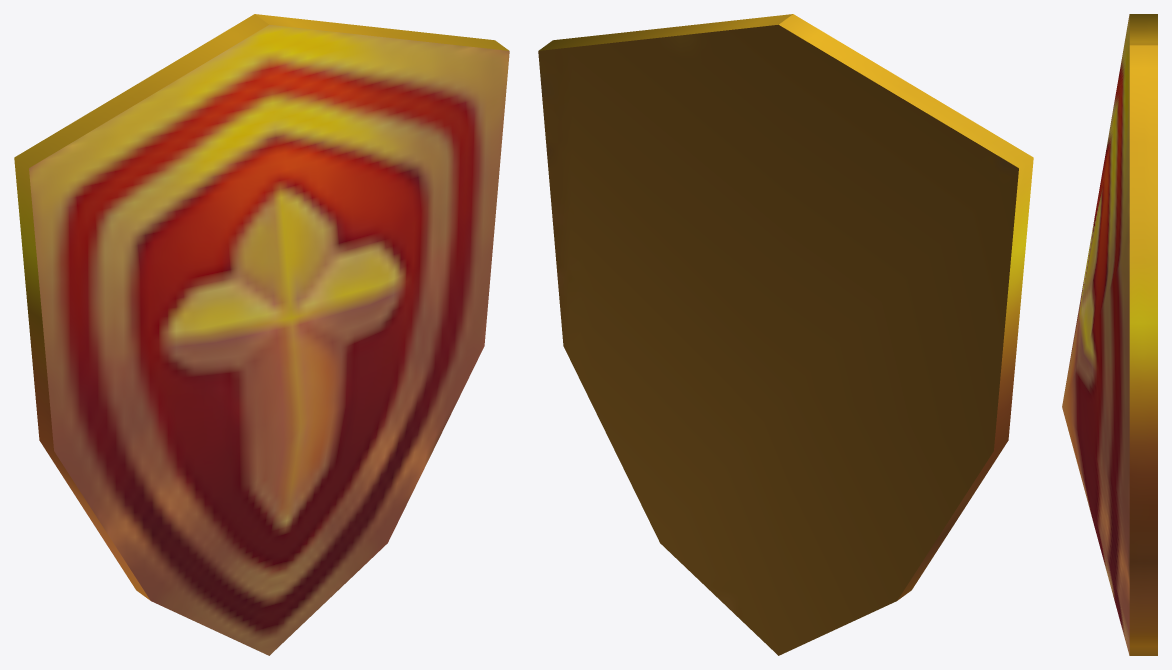
The model's file is dunpai.FBX.
3 renders of one model, left to right at view 1: azimuth 30°, elevation 25°; view 2: azimuth 150°, elevation 25°; view 3: azimuth 270°, elevation 25°, orthographic. The views are drawn at different scales.
Visible parts, largest first — view 1: dunpai; view 2: dunpai; view 3: dunpai.
Part boxes in pixels (x1,y1,x2,y2): dunpai: (14,14,509,655); dunpai: (538,14,1033,655); dunpai: (1062,14,1157,655).
Bounding box in the file's own units: 91.2 × 114 × 16.28.
